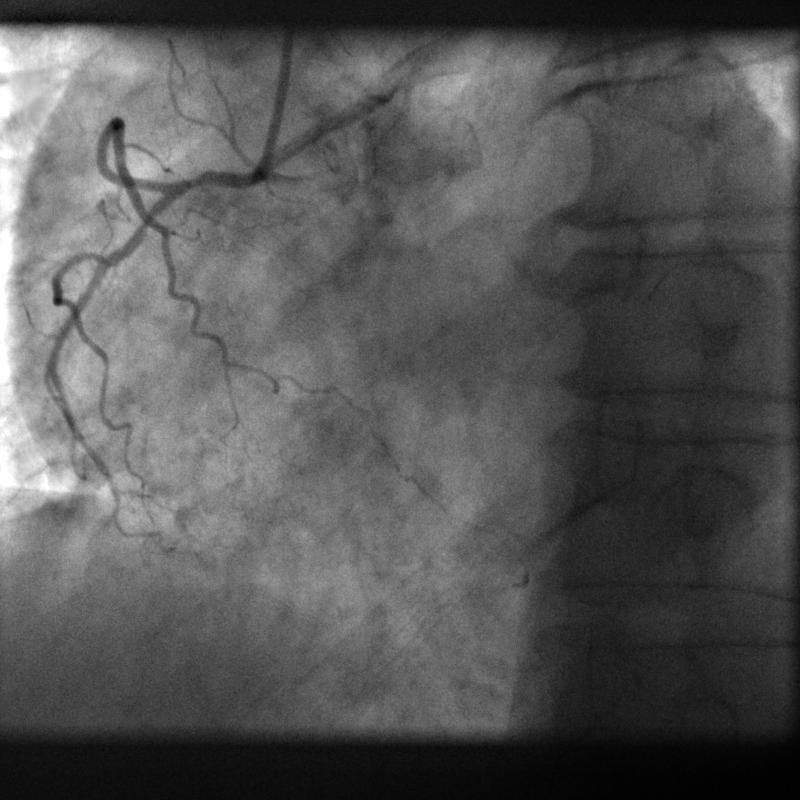Stenosis: (169, 163, 211, 201)
